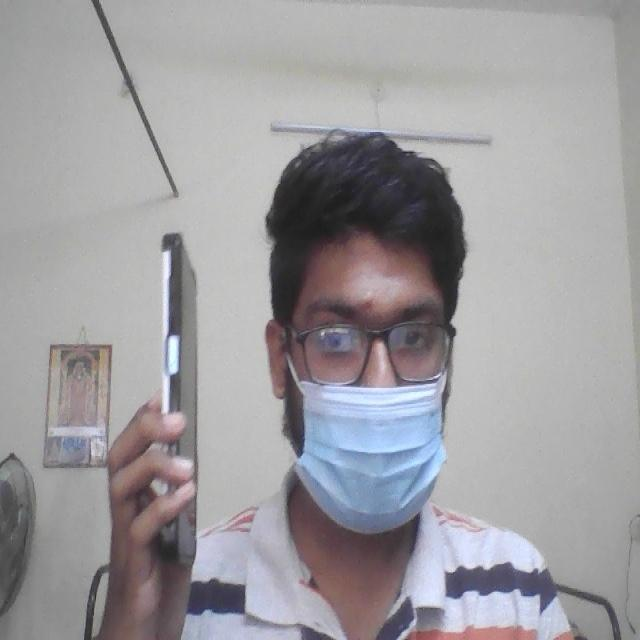Mobile: (161, 218, 206, 554)
